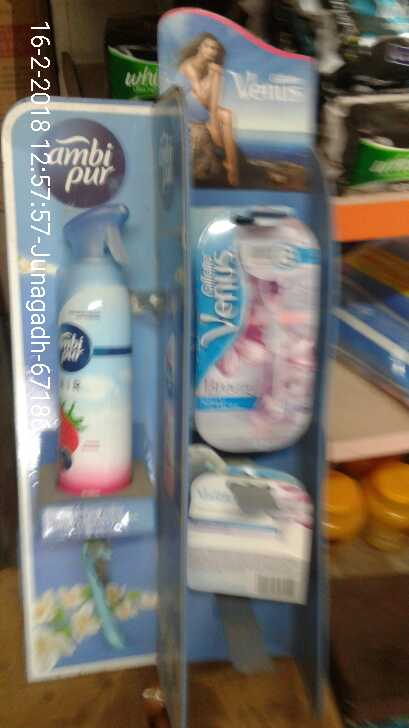beauty: (196, 204, 321, 452)
home: (61, 201, 142, 499)
